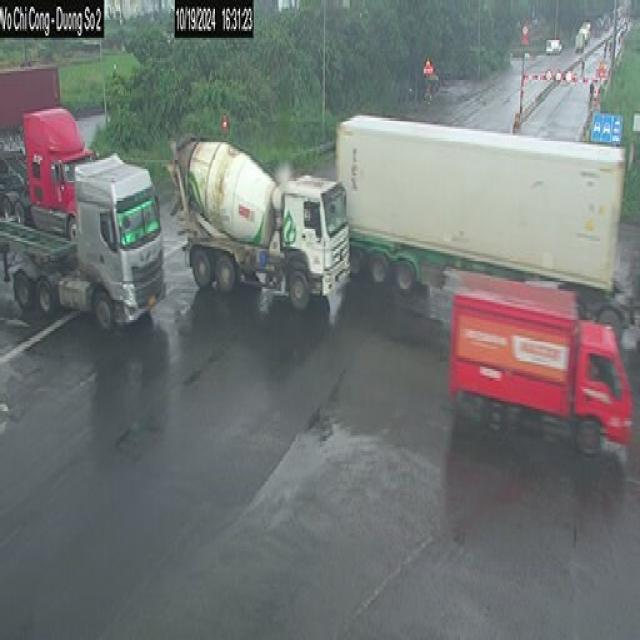container-truck: (334, 110, 640, 341), (0, 150, 168, 334), (0, 101, 92, 243)
truck: (449, 265, 632, 457), (173, 134, 351, 309)
